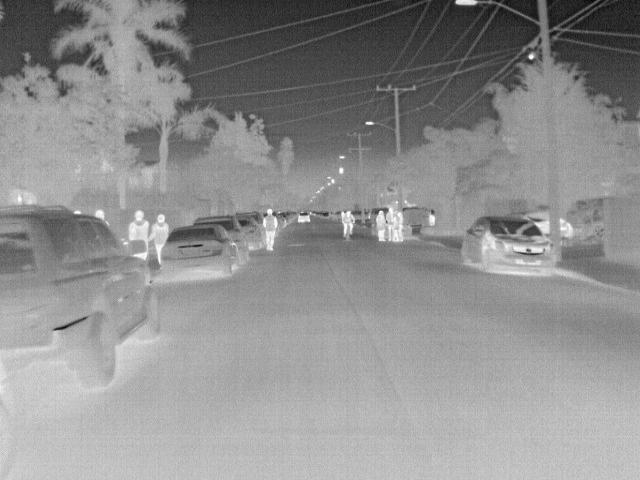car: (6, 202, 164, 391), (463, 214, 558, 276), (159, 222, 239, 280), (192, 214, 251, 258), (239, 216, 269, 248), (520, 210, 551, 236), (559, 215, 574, 241), (297, 211, 312, 224)
person: (150, 211, 170, 261), (129, 208, 147, 255), (261, 208, 277, 250), (373, 207, 390, 244), (387, 212, 402, 241), (341, 210, 357, 237), (93, 208, 111, 229), (385, 205, 397, 223)
